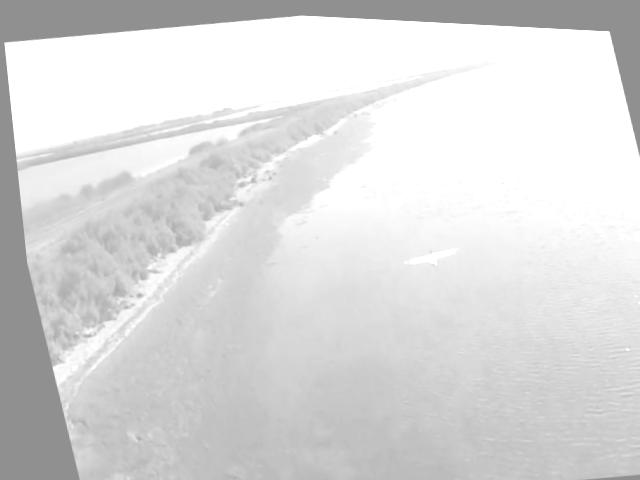hedef: (380, 229, 473, 281)
